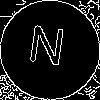N: (25, 25, 67, 75)
